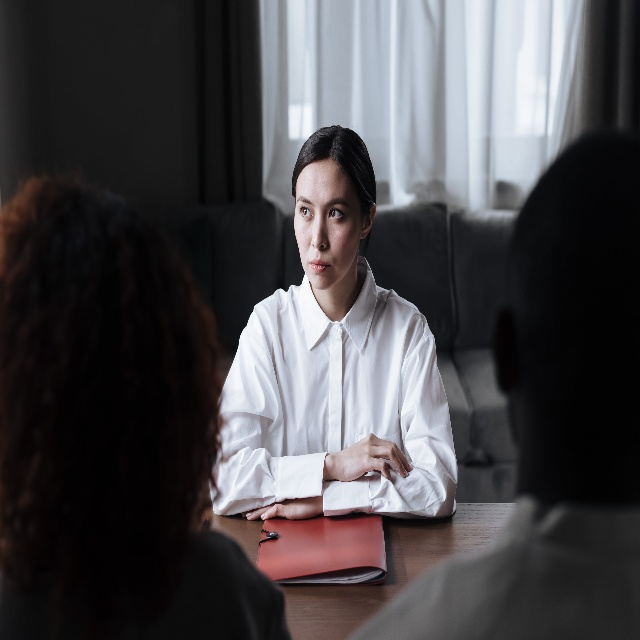Sin_guantes: (334, 427, 412, 483), (237, 493, 322, 520)
